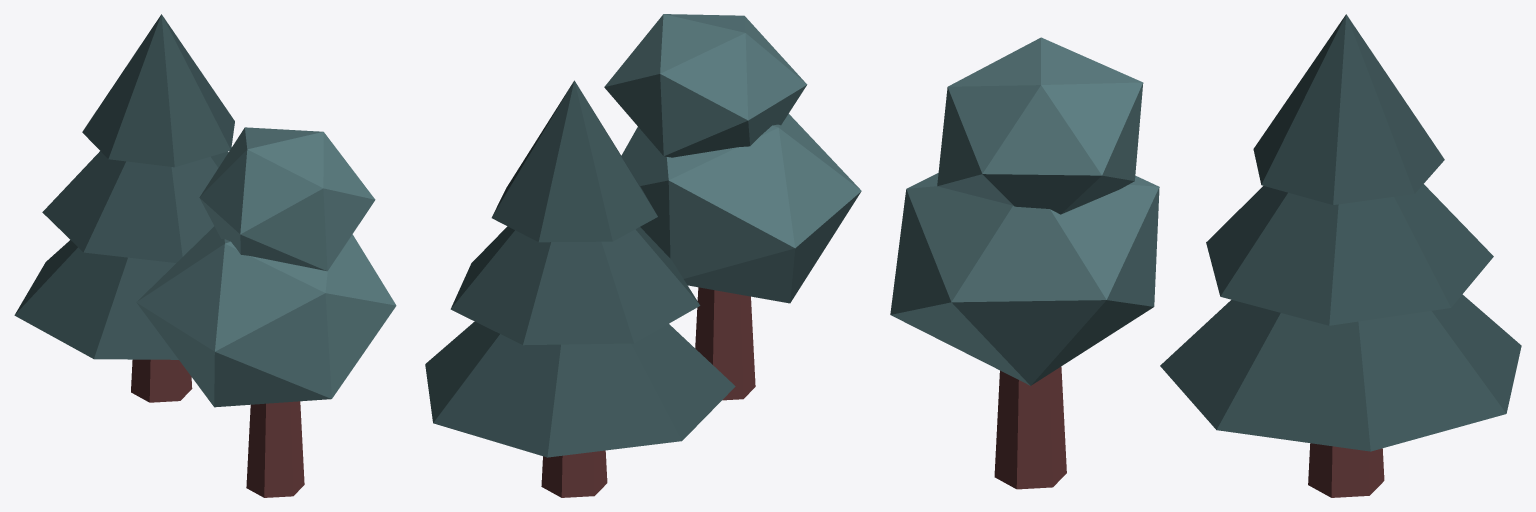
The model's file is grove3.glb.
3 renders of one model, left to right at view 1: azimuth 30°, elevation 25°; view 2: azimuth 150°, elevation 25°; view 3: azimuth 270°, elevation 25°, orthographic. The views are drawn at different scales.
Visible parts, largest first — view 1: grove3; view 2: grove3; view 3: grove3.
Part boxes in pixels (<box>): grove3: <box>14,14,396,497</box>; grove3: <box>425,14,861,497</box>; grove3: <box>890,14,1521,497</box>.
Bounding box in the file's own units: 0.6976 × 0.9934 × 1.21.
